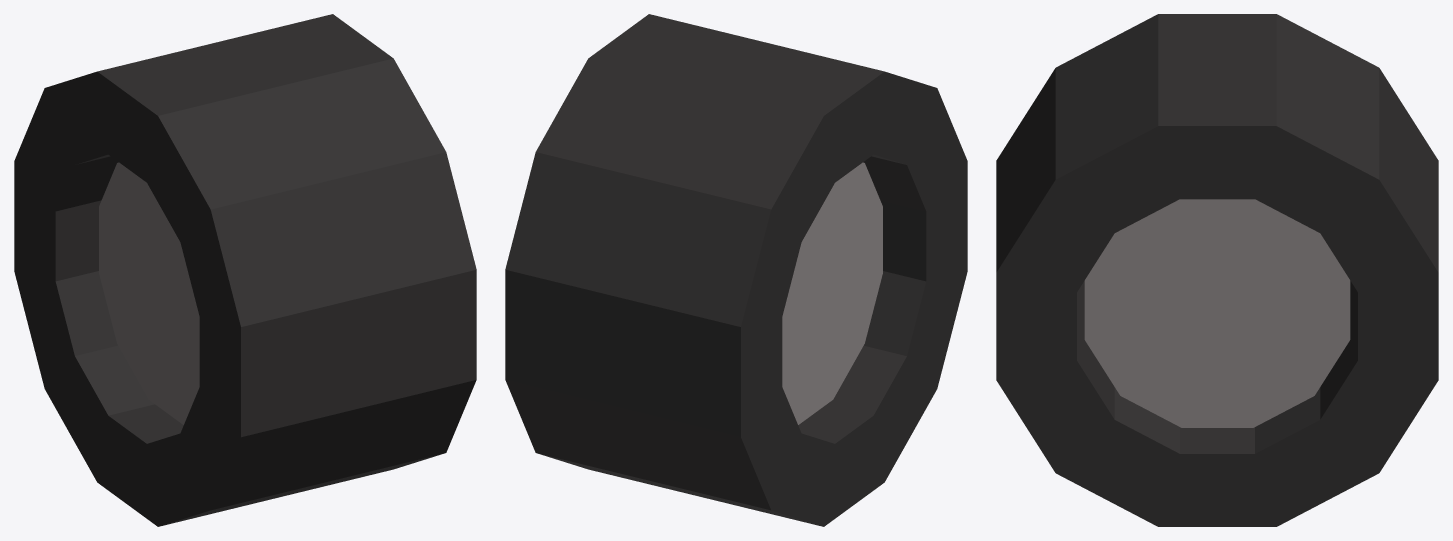
File: dante_wheelfix.fbx
3 renders of one model, left to right at view 1: azimuth 30°, elevation 25°; view 2: azimuth 150°, elevation 25°; view 3: azimuth 270°, elevation 25°, orthographic. The views are drawn at different scales.
Parts seen in each view (by area): view 1: tube; view 2: tube; view 3: tube.
Boxes of the visible parts, <box> form: tube: <box>14,14,476,526</box>; tube: <box>505,14,967,526</box>; tube: <box>996,14,1438,526</box>.
Bounding box in the file's own units: 18.75 × 31.25 × 31.25.
Materials: 1 (1 with a texture image).
